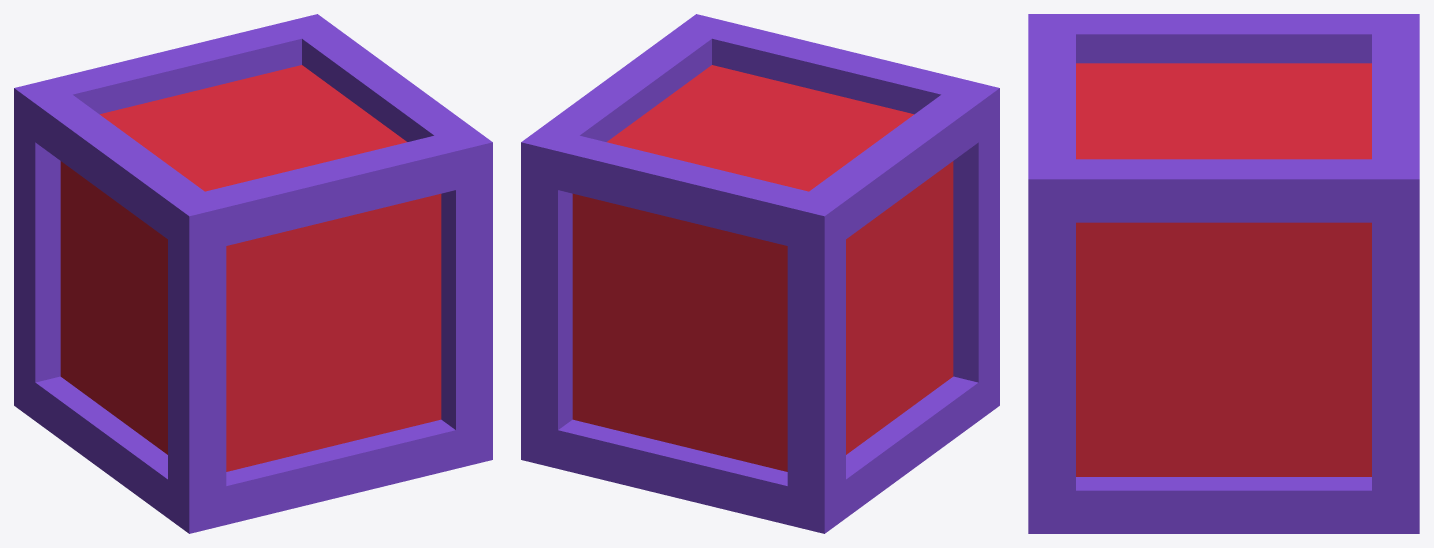
3 renders of one model, left to right at view 1: azimuth 30°, elevation 25°; view 2: azimuth 150°, elevation 25°; view 3: azimuth 270°, elevation 25°, orthographic. The views are drawn at different scales.
Parts seen in each view (by area): view 1: Cube; view 2: Cube; view 3: Cube.
Part boxes in pixels (x1,y1,x2,y2): Cube: [14, 14, 492, 533]; Cube: [521, 14, 999, 533]; Cube: [1028, 14, 1419, 533].
Bounding box in the file's own units: 2 × 2 × 2.
